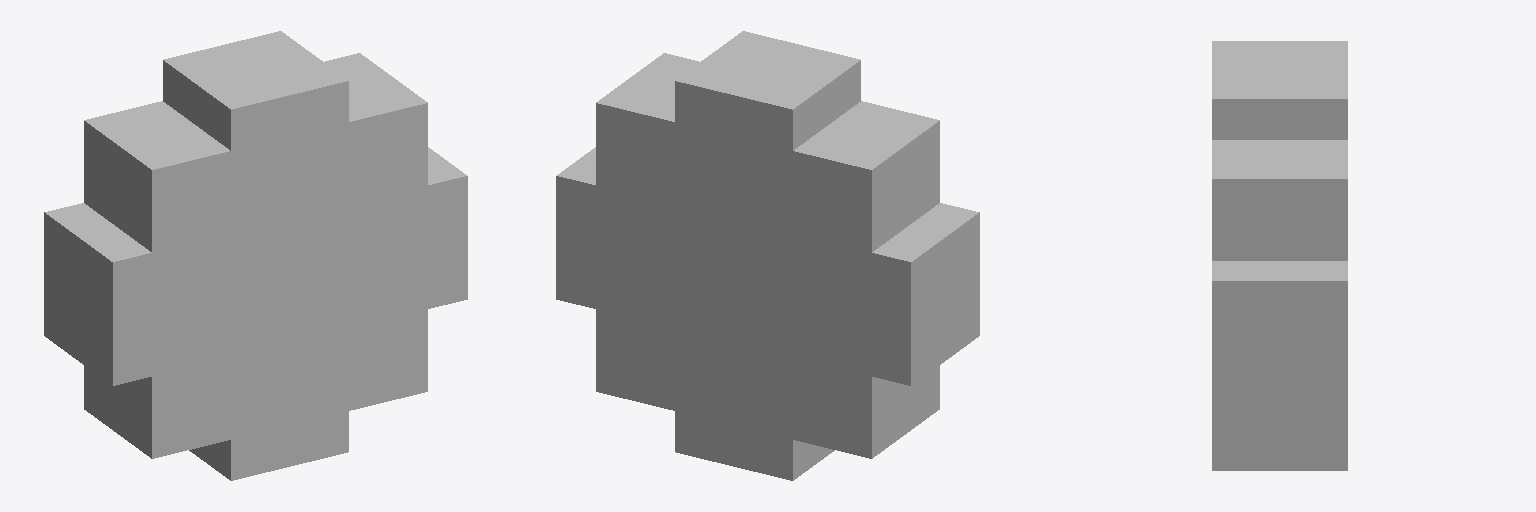
Rendered from pickup_tire_3.obj.
The picture shows the model from 3 angles: view 1: azimuth 30°, elevation 25°; view 2: azimuth 150°, elevation 25°; view 3: azimuth 270°, elevation 25°; orthographic projection.
Visible parts, largest first — view 1: Untitled.050; view 2: Untitled.050; view 3: Untitled.050.
Boxes of the visible parts, x1=… form: Untitled.050: x1=44, y1=31, x2=467, y2=480; Untitled.050: x1=556, y1=31, x2=979, y2=480; Untitled.050: x1=1212, y1=41, x2=1347, y2=470.
Size of the model in its own units: 0.9 by 0.9 by 0.3.